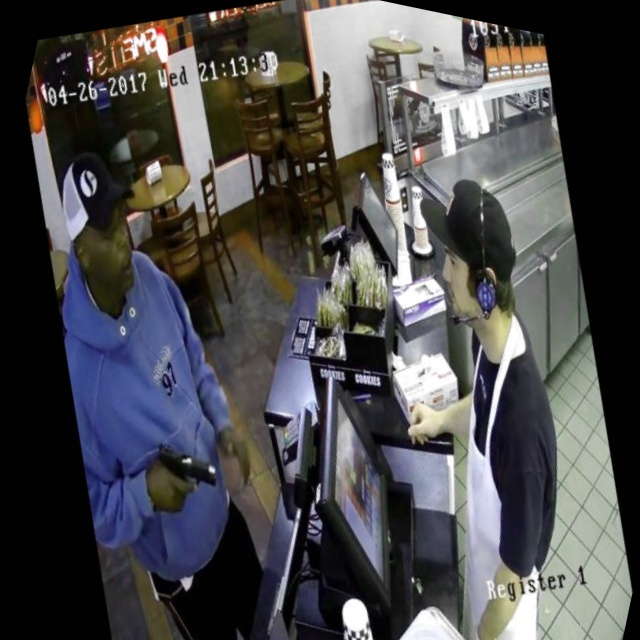gun: (117, 406, 248, 536)
